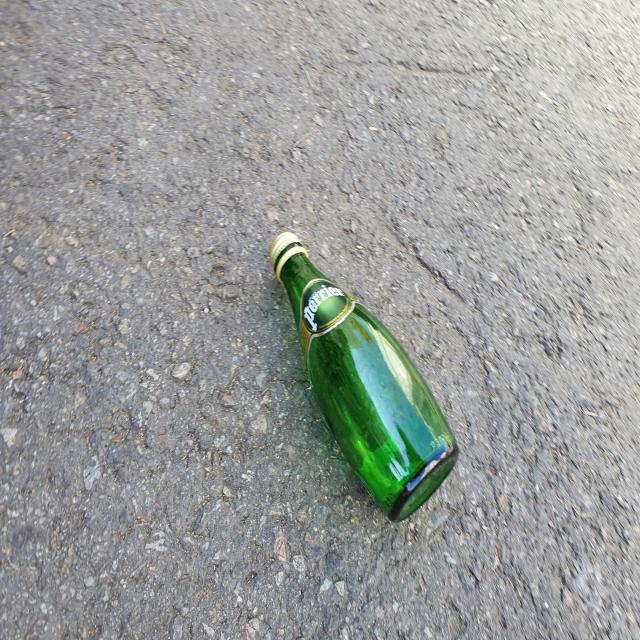glass: (270, 232, 459, 522)
